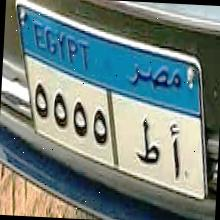5: (49, 86, 71, 138), (30, 75, 50, 132), (89, 105, 109, 155), (70, 98, 90, 148)
Taa: (132, 108, 162, 174)
alif: (163, 116, 185, 193)
